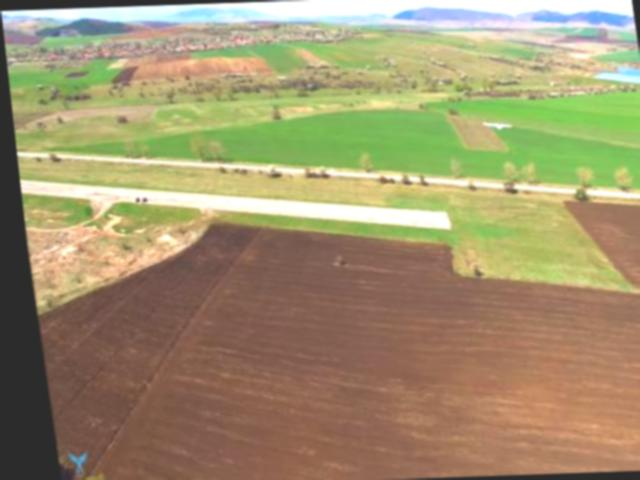uav: (477, 114, 512, 136)
